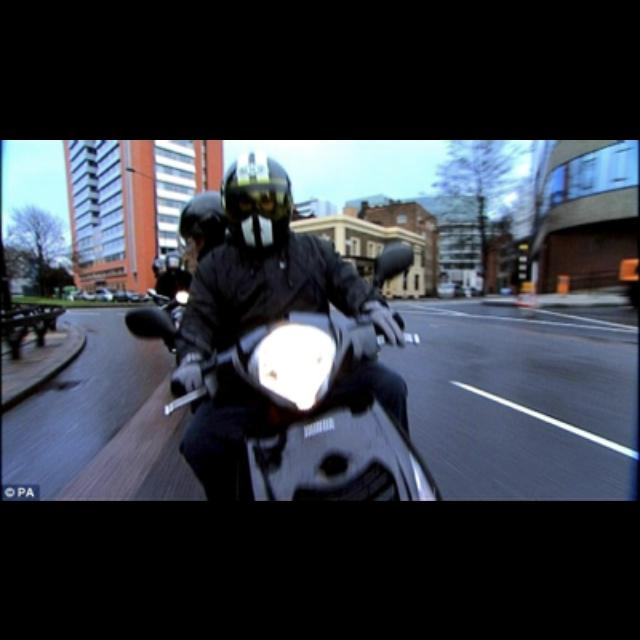With Helmet: (221, 153, 295, 244), (176, 184, 234, 258)
